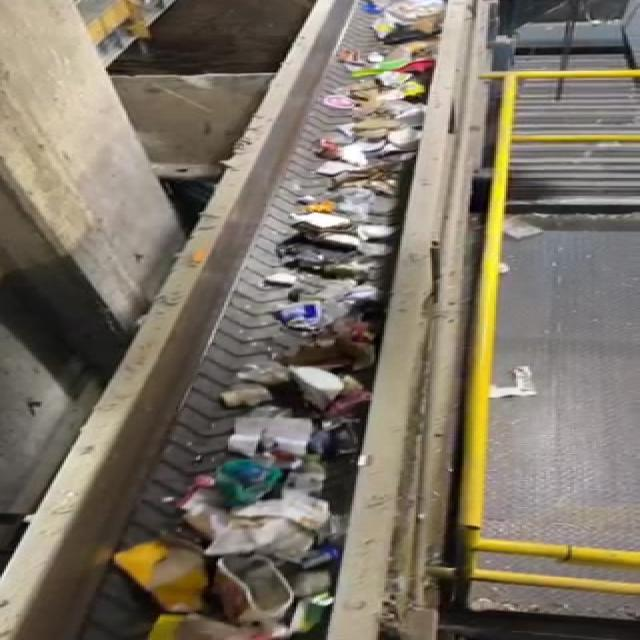paper: (106, 536, 215, 620)
